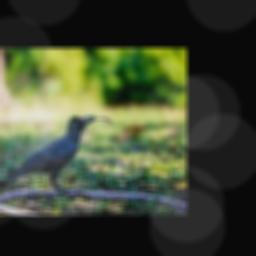Crow: (0, 116, 95, 193)
